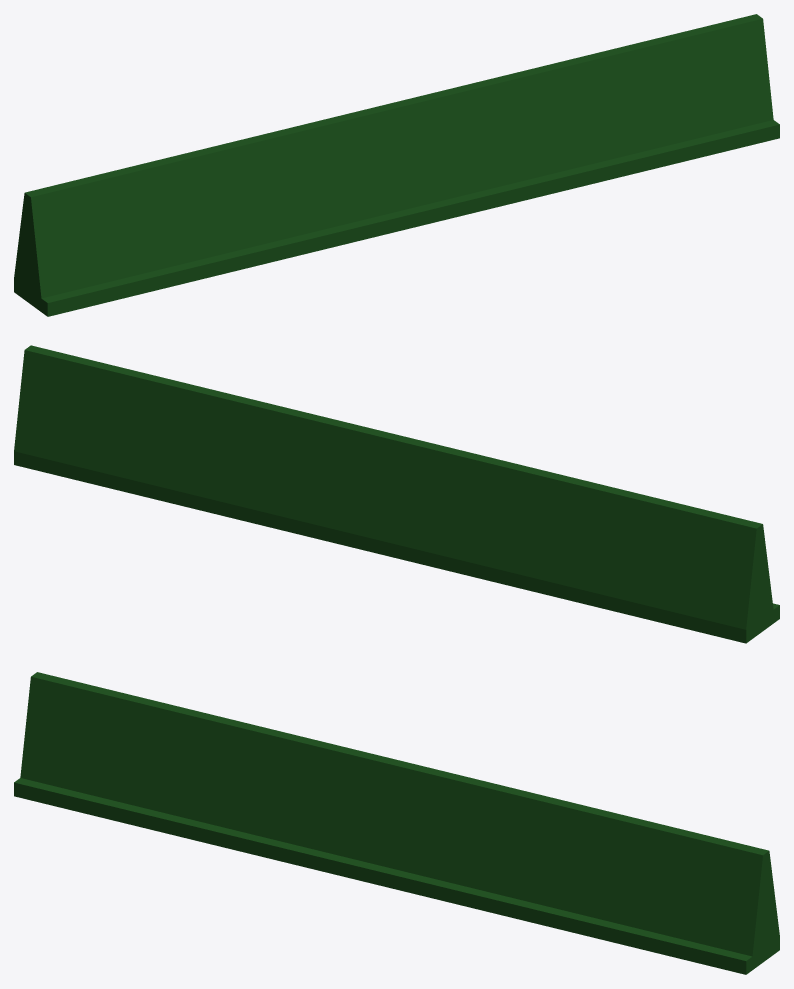
File: Scrabble Holder.fbx
The picture shows the model from 3 angles, top to bottom: view 1: azimuth 30°, elevation 25°; view 2: azimuth 150°, elevation 25°; view 3: azimuth 330°, elevation 25°; orthographic projection.
Parts seen in each view (by area): view 1: Scrabble Holder; view 2: Scrabble Holder; view 3: Scrabble Holder.
Part boxes in pixels (x1=…): Scrabble Holder: x1=14, y1=14, x2=779, y2=316; Scrabble Holder: x1=14, y1=345, x2=779, y2=643; Scrabble Holder: x1=14, y1=672, x2=779, y2=974.
Bounding box in the file's own units: 200 × 28 × 16.
